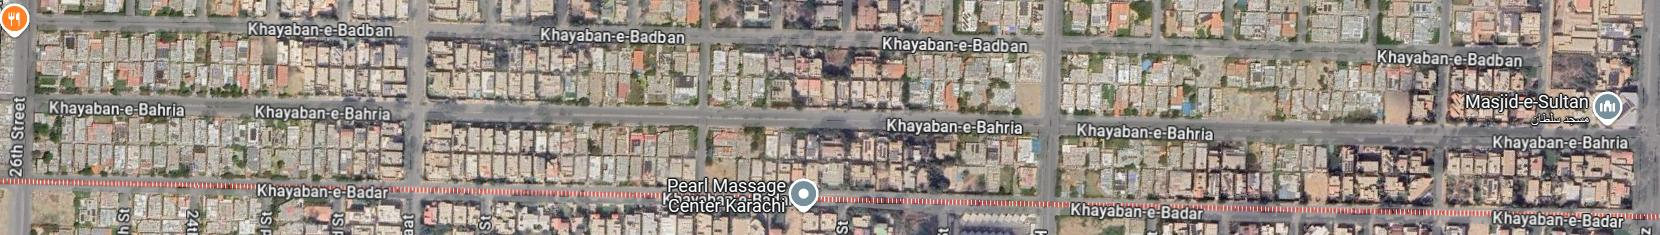Buildings: (34, 25, 410, 110), (24, 110, 405, 191), (1059, 137, 1440, 212), (707, 40, 1046, 123), (1059, 52, 1444, 123), (704, 133, 1043, 199), (430, 33, 704, 108), (427, 124, 691, 189), (1452, 54, 1646, 134), (1450, 145, 1636, 212)
